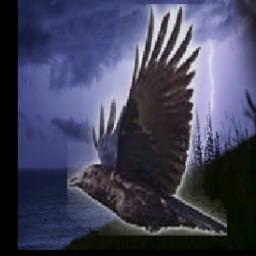Crow: (68, 5, 228, 237)
